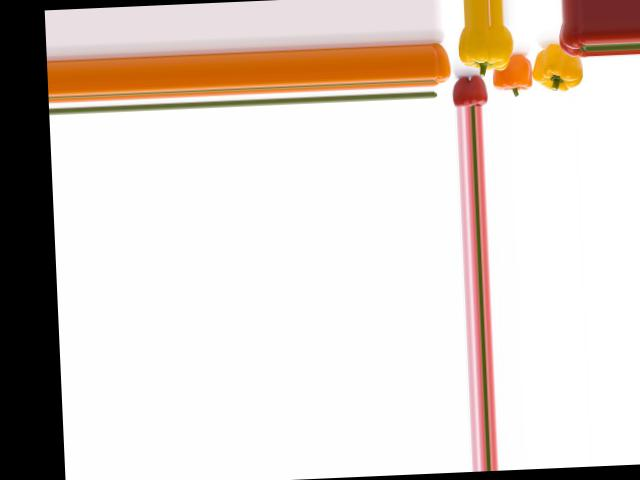bell_pepper: (430, 42, 453, 87)
